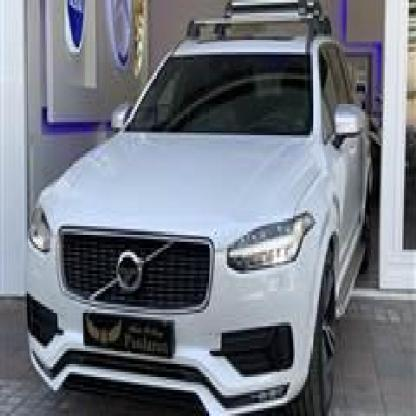Car: (17, 10, 378, 416)
